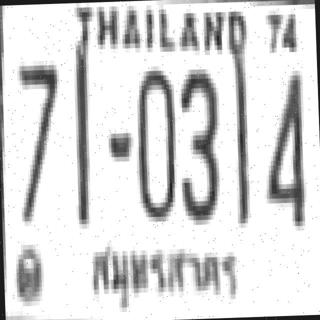N00: (133, 66, 176, 217)
N01: (69, 38, 92, 222), (228, 49, 252, 223)
N03: (176, 64, 220, 220)
N04: (260, 66, 305, 222)
N07: (16, 60, 62, 222)
P58: (85, 233, 243, 307)
